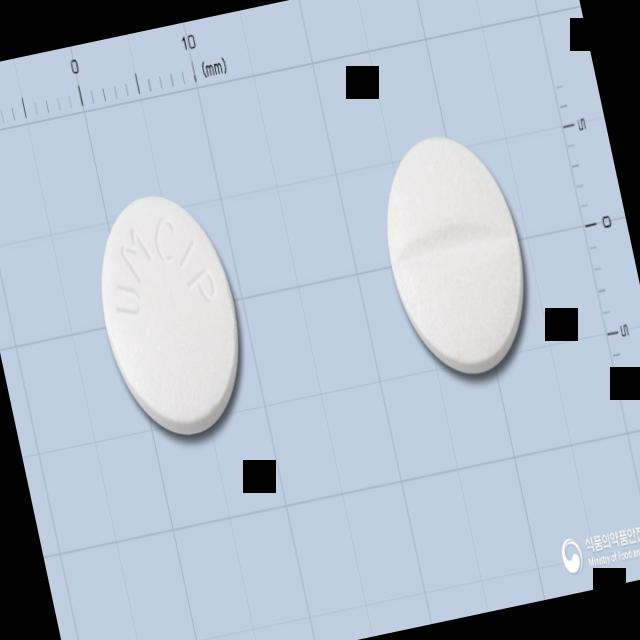Ciprofloxacin HCl Tab- Unimed: (77, 175, 266, 454)
